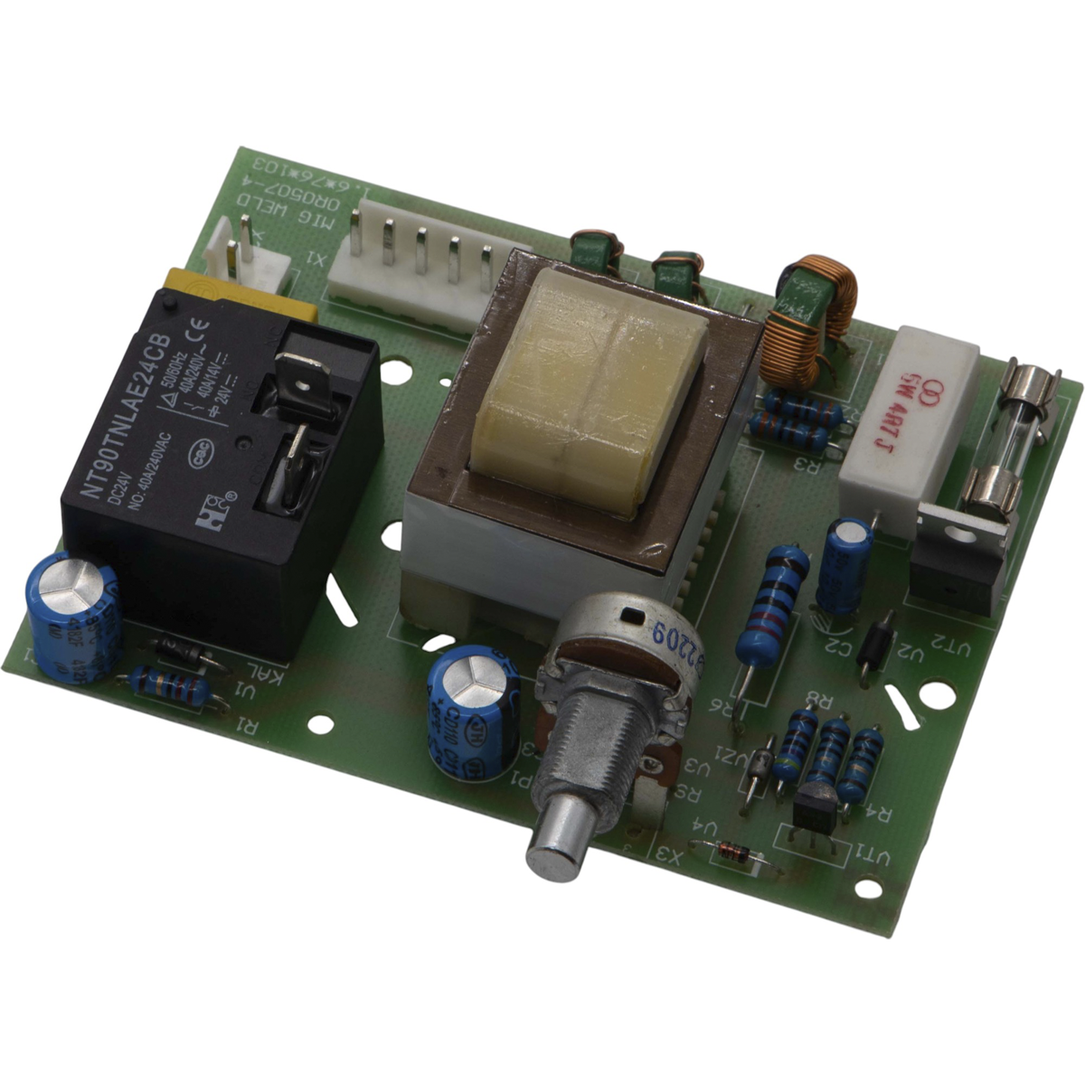Capacitor: (412, 640, 519, 803), (10, 541, 120, 694), (809, 509, 869, 612)
Connector: (336, 194, 519, 316), (199, 211, 293, 297)
Diode: (860, 608, 899, 681)
Fuse: (965, 353, 1051, 529)
Potentiometer: (545, 582, 697, 887)
Resistor: (744, 541, 807, 702), (742, 378, 847, 417), (734, 417, 837, 456), (850, 722, 880, 810), (783, 696, 811, 778), (824, 709, 847, 788)
